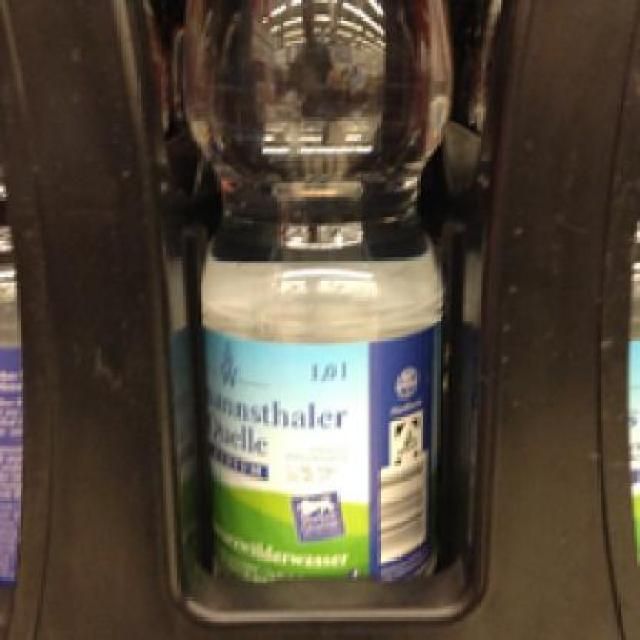Water: (180, 0, 446, 592)
